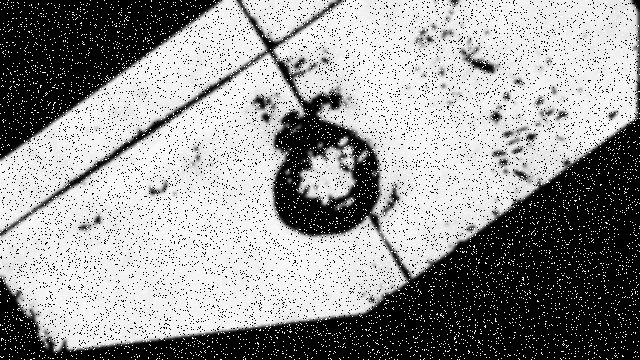pot: (268, 124, 384, 239)
